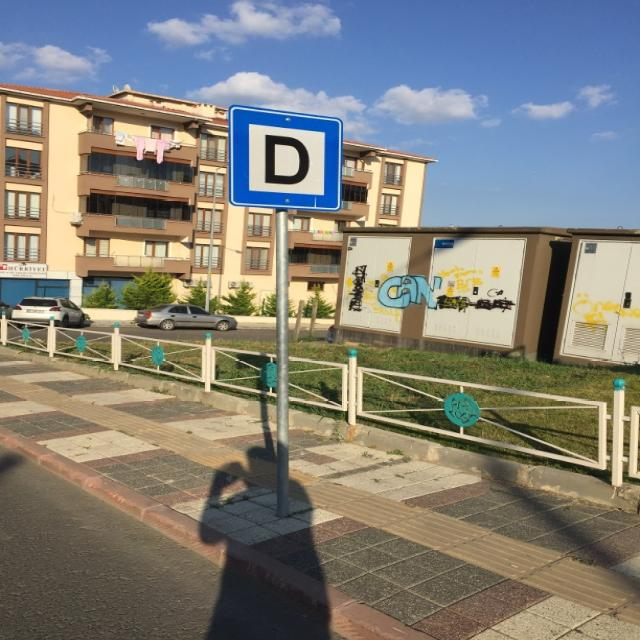durak: (227, 104, 345, 212)
